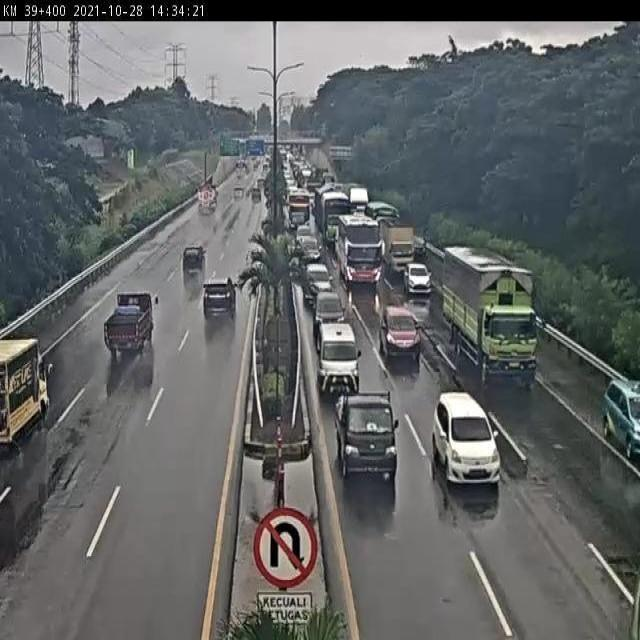Bus: (336, 214, 384, 289), (284, 188, 315, 230)
Car: (379, 305, 423, 359), (202, 277, 238, 324), (311, 291, 347, 338), (403, 263, 433, 294), (182, 244, 208, 276)
Truck: (442, 246, 550, 388), (332, 388, 401, 484), (0, 338, 56, 456), (102, 293, 159, 356), (383, 217, 418, 277)
Van: (431, 392, 503, 485), (316, 320, 362, 398)
